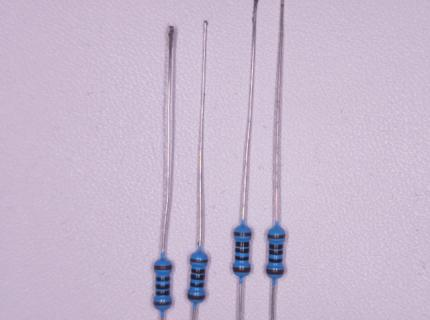Black band: (269, 243, 283, 249), (269, 250, 283, 256), (191, 274, 205, 280), (190, 282, 204, 288), (156, 283, 170, 289), (192, 268, 205, 274), (156, 290, 169, 296), (235, 242, 250, 247), (269, 258, 283, 263), (235, 256, 249, 261), (156, 276, 170, 281), (236, 248, 249, 253)
Brown band: (188, 293, 206, 300), (266, 268, 284, 275), (233, 266, 251, 272), (154, 265, 173, 270), (190, 258, 209, 263), (154, 301, 172, 306), (234, 231, 252, 236), (268, 234, 285, 239)
